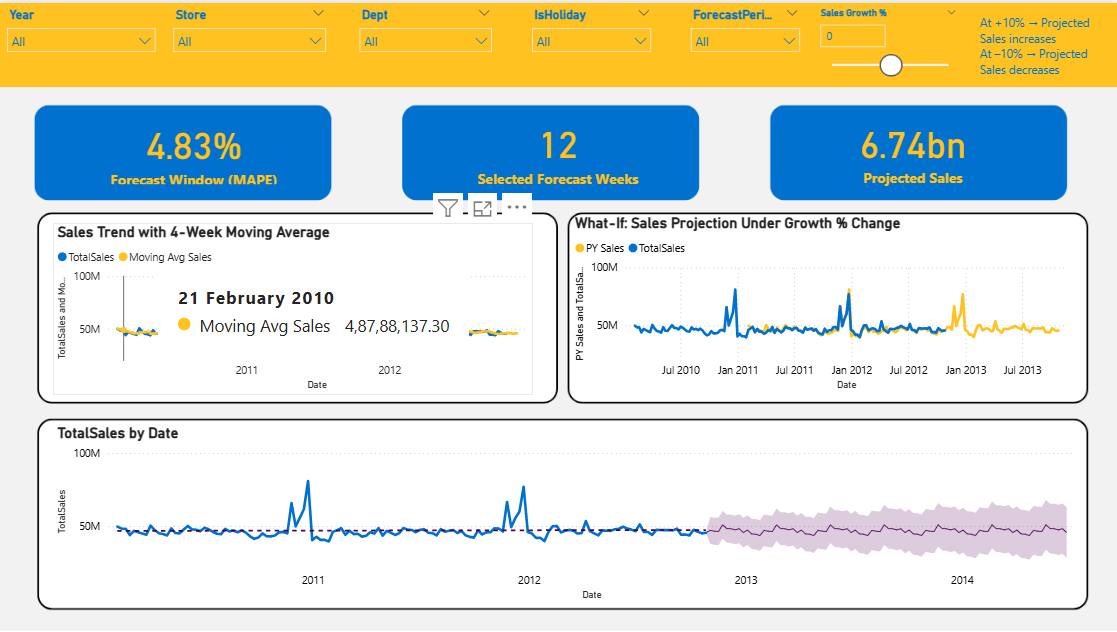

The dashboard page shown, as its layout file describes it:
{"tool":"powerbi","page":{"name":"Page 5","canvas":[1280,720],"ordinal":4},"visuals":[{"type":"slicer","fields":{"Values":["Sales Growth %.Sales Growth %"]},"box":[926.7,0,180,95],"z":0},{"type":"textbox","box":[1116.7,8.3,163.3,80],"z":1000},{"type":"lineChart","fields":{"Y":["Dim_Date.TotalSales"],"Category":["Dim_Date.Date"]},"box":[63.3,481.7,1176.7,206.7],"z":2000},{"type":"lineChart","title":"Sales Trend with 4-Week Moving Average","fields":{"Category":["Dim_Date.Date"],"Y":["Dim_Date.TotalSales","Category Parameter.Moving Avg Sales"]},"box":[63.3,251.7,548.3,196.7],"z":3000},{"type":"lineChart","title":"What-If: Sales Projection Under Growth % Change","fields":{"Category":["Dim_Date.Date"],"Y":["Dim_Date.PY Sales","Dim_Date.TotalSales"]},"box":[655,241.7,585,206.7],"z":4000},{"type":"card","title":"Forecast Window (MAPE)","fields":{"Values":["Category Parameter.MAPE"]},"box":[110,126.7,228.3,85],"z":5000},{"type":"slicer","fields":{"Values":["Dim_Date.Year"]},"box":[0,0,190,65],"z":6000},{"type":"slicer","fields":{"Values":["stores.Store"]},"box":[190,0,195,65],"z":7000},{"type":"slicer","fields":{"Values":["train.Dept"]},"box":[403.3,0,171.7,65],"z":8000},{"type":"slicer","fields":{"Values":["features.IsHoliday"]},"box":[600,0,156.7,65],"z":9000},{"type":"slicer","fields":{"Values":["ForecastPeriod.ForecastPeriod"]},"box":[781.7,0,145,75],"z":10000},{"type":"card","fields":{"Values":["ForecastPeriod.Selected Forecast Weeks"]},"box":[538.3,115,203.3,106.7],"z":11000},{"type":"card","fields":{"Values":["Category Parameter.Projected Sales"]},"box":[910,120,271.7,96.7],"z":12000}]}

Visuals, with their boxes in screenshot pixels (x1, y1, x2, y2), scaled from the page's 1280x720 canvas onto the 1117x632 screenshot:
slicer - Sales Growth %.Sales Growth %: bbox=[809, 0, 966, 83]
textbox: bbox=[974, 7, 1116, 78]
lineChart - Dim_Date.TotalSales x Dim_Date.Date: bbox=[55, 423, 1082, 604]
"Sales Trend with 4-Week Moving Average" lineChart: bbox=[55, 221, 534, 394]
"What-If: Sales Projection Under Growth % Change" lineChart: bbox=[572, 212, 1082, 394]
"Forecast Window (MAPE)" card: bbox=[96, 111, 295, 186]
slicer - Dim_Date.Year: bbox=[0, 0, 166, 57]
slicer - stores.Store: bbox=[166, 0, 336, 57]
slicer - train.Dept: bbox=[352, 0, 502, 57]
slicer - features.IsHoliday: bbox=[524, 0, 660, 57]
slicer - ForecastPeriod.ForecastPeriod: bbox=[682, 0, 809, 66]
card - ForecastPeriod.Selected Forecast Weeks: bbox=[470, 101, 647, 195]
card - Category Parameter.Projected Sales: bbox=[794, 105, 1031, 190]
